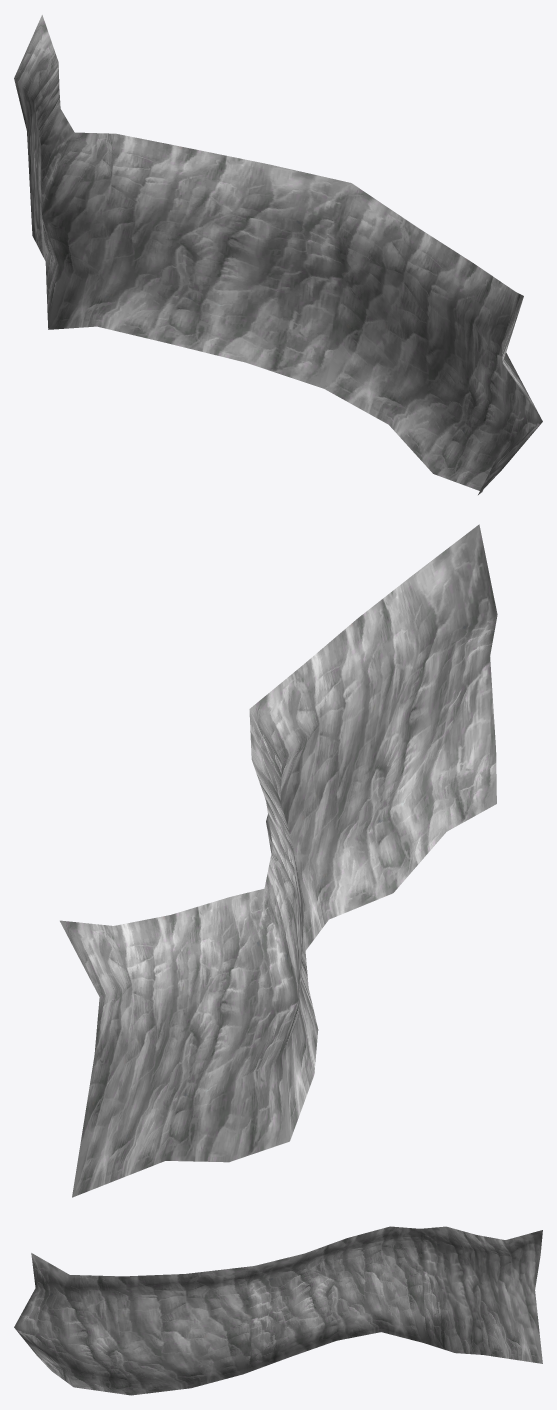
The model's file is SWORDLIGHT20_PS-AREA03_157.fbx.
The picture shows the model from 3 angles, top to bottom: view 1: azimuth 30°, elevation 25°; view 2: azimuth 150°, elevation 25°; view 3: azimuth 270°, elevation 25°; orthographic projection. The views are drawn at different scales.
Visible parts, largest first — view 1: SWORDLIGHT20_PS-AREA03_157; view 2: SWORDLIGHT20_PS-AREA03_157; view 3: SWORDLIGHT20_PS-AREA03_157.
Part boxes in pixels (x1,y1,x2,y2): SWORDLIGHT20_PS-AREA03_157: (14,15,542,494); SWORDLIGHT20_PS-AREA03_157: (60,524,497,1197); SWORDLIGHT20_PS-AREA03_157: (14,1226,542,1395).
Size of the model in its own units: 47805 by 55716 by 182172.
1 material, 1 textured.
